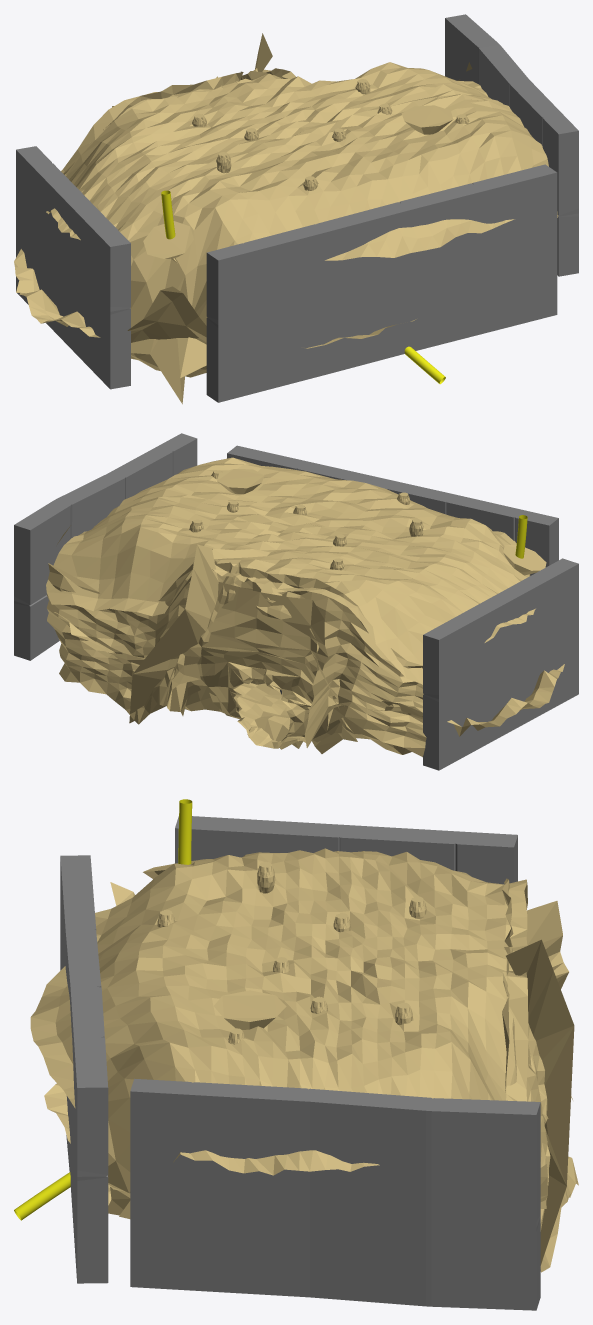
Rendered from cave2.fbx.
3 views of the same model, one above another, from view 1: azimuth 30°, elevation 25°; view 2: azimuth 150°, elevation 25°; view 3: azimuth 270°, elevation 25° (orthographic). The views are drawn at different scales.
Visible parts, largest first — view 1: CaveMetal, CaveRock.003, Cylinder.010, Cylinder.001; view 2: CaveRock.003, CaveMetal, CaveRock.002, Cylinder.001, Cylinder.010; view 3: CaveMetal, CaveRock.003, CaveRock.002, Cylinder.001, NurbsPath.003, NurbsPath.002.
Part boxes in pixels (x1=…): CaveMetal: x1=16, y1=14, x2=578, y2=402; CaveRock.003: x1=14, y1=62, x2=558, y2=404; Cylinder.010: x1=143, y1=221, x2=193, y2=258; Cylinder.001: x1=401, y1=105, x2=453, y2=134; CaveRock.003: x1=46, y1=457, x2=564, y2=757; CaveMetal: x1=14, y1=433, x2=578, y2=770; CaveRock.002: x1=129, y1=544, x2=357, y2=753; Cylinder.001: x1=217, y1=469, x2=264, y2=494; Cylinder.010: x1=503, y1=545, x2=546, y2=575; CaveMetal: x1=60, y1=816, x2=540, y2=1310; CaveRock.003: x1=30, y1=848, x2=578, y2=1272; CaveRock.002: x1=506, y1=901, x2=574, y2=1265; Cylinder.001: x1=214, y1=990, x2=286, y2=1029; NurbsPath.003: x1=178, y1=799, x2=192, y2=864; NurbsPath.002: x1=14, y1=1172, x2=70, y2=1220.
Bounding box in the file's own units: 21.66 × 8.88 × 15.29.
